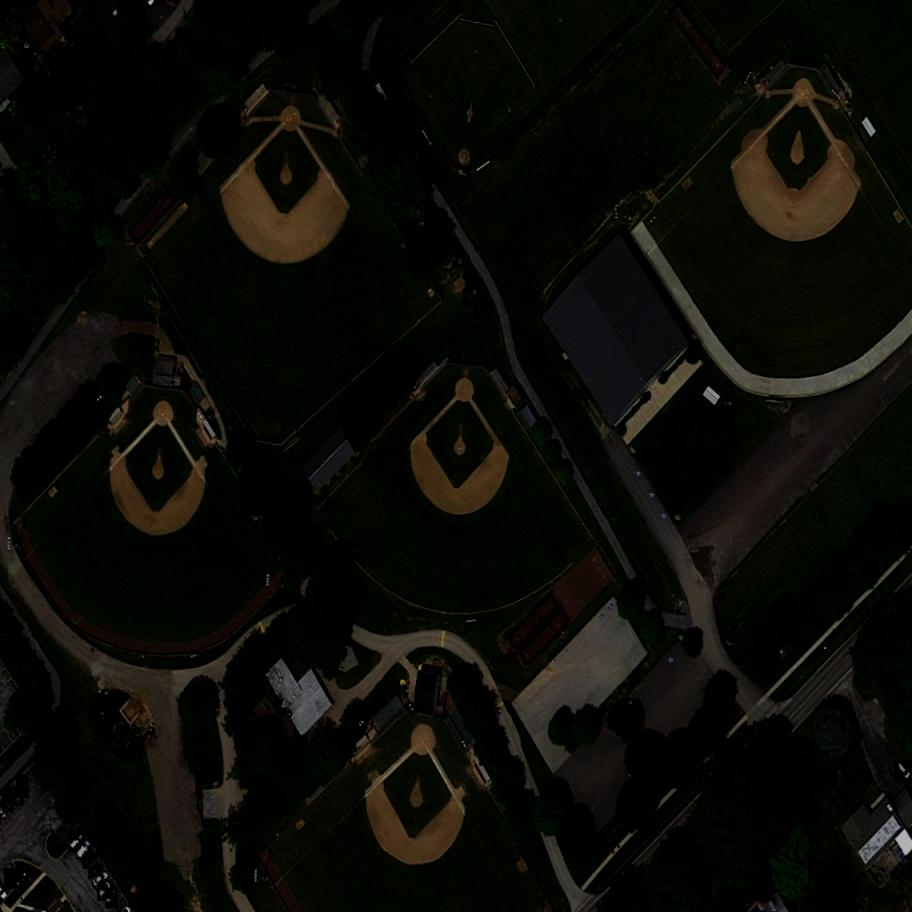small-vehicle: (67, 830, 91, 853), (77, 839, 96, 864), (3, 868, 25, 889), (95, 880, 116, 901), (893, 760, 912, 782), (81, 852, 103, 871), (87, 859, 107, 879), (6, 787, 26, 806), (15, 774, 30, 798), (105, 887, 121, 908), (92, 871, 111, 887), (2, 793, 15, 812)
